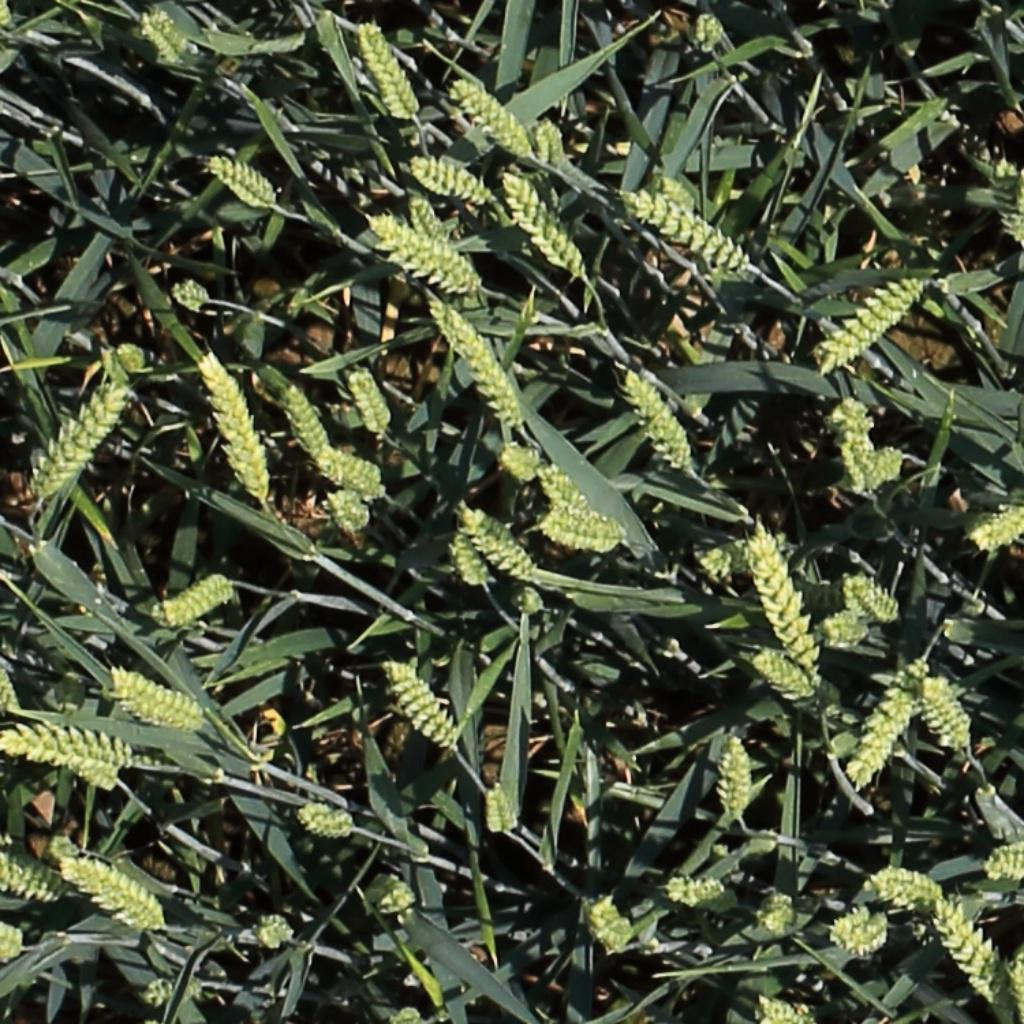0-0: (20, 378, 133, 501), (428, 292, 529, 427), (748, 514, 825, 673), (196, 346, 271, 503), (819, 273, 929, 372), (369, 209, 486, 299), (525, 460, 633, 554), (625, 187, 750, 268), (501, 166, 589, 279), (621, 365, 697, 476), (929, 891, 1002, 1006), (847, 688, 921, 791), (0, 721, 148, 772), (356, 15, 423, 124), (383, 659, 458, 753), (451, 77, 536, 157), (64, 864, 163, 924), (862, 862, 957, 923), (460, 507, 539, 577), (146, 570, 239, 629), (111, 671, 202, 727), (694, 532, 808, 574), (281, 378, 333, 464), (712, 727, 756, 825), (918, 679, 976, 753), (24, 746, 120, 790), (409, 155, 496, 203), (828, 902, 891, 964), (346, 360, 394, 441), (836, 409, 879, 495), (525, 108, 568, 194), (207, 152, 278, 204), (755, 652, 820, 703), (991, 154, 1024, 253), (849, 444, 904, 503), (406, 188, 457, 251), (292, 795, 365, 839), (354, 874, 421, 919), (744, 882, 800, 935), (137, 8, 188, 65), (0, 858, 66, 902), (591, 892, 634, 959), (451, 520, 491, 592), (128, 974, 212, 1008), (845, 576, 903, 625), (818, 610, 884, 651), (318, 447, 385, 486), (540, 517, 628, 546), (662, 877, 733, 909), (168, 271, 215, 319), (980, 837, 1024, 886), (326, 486, 372, 532), (970, 509, 1024, 547), (486, 780, 514, 845), (0, 915, 31, 970), (757, 993, 809, 1024), (1004, 944, 1024, 1023), (0, 649, 21, 720), (694, 6, 723, 57), (113, 339, 150, 374), (506, 592, 547, 611), (0, 1, 17, 35)
